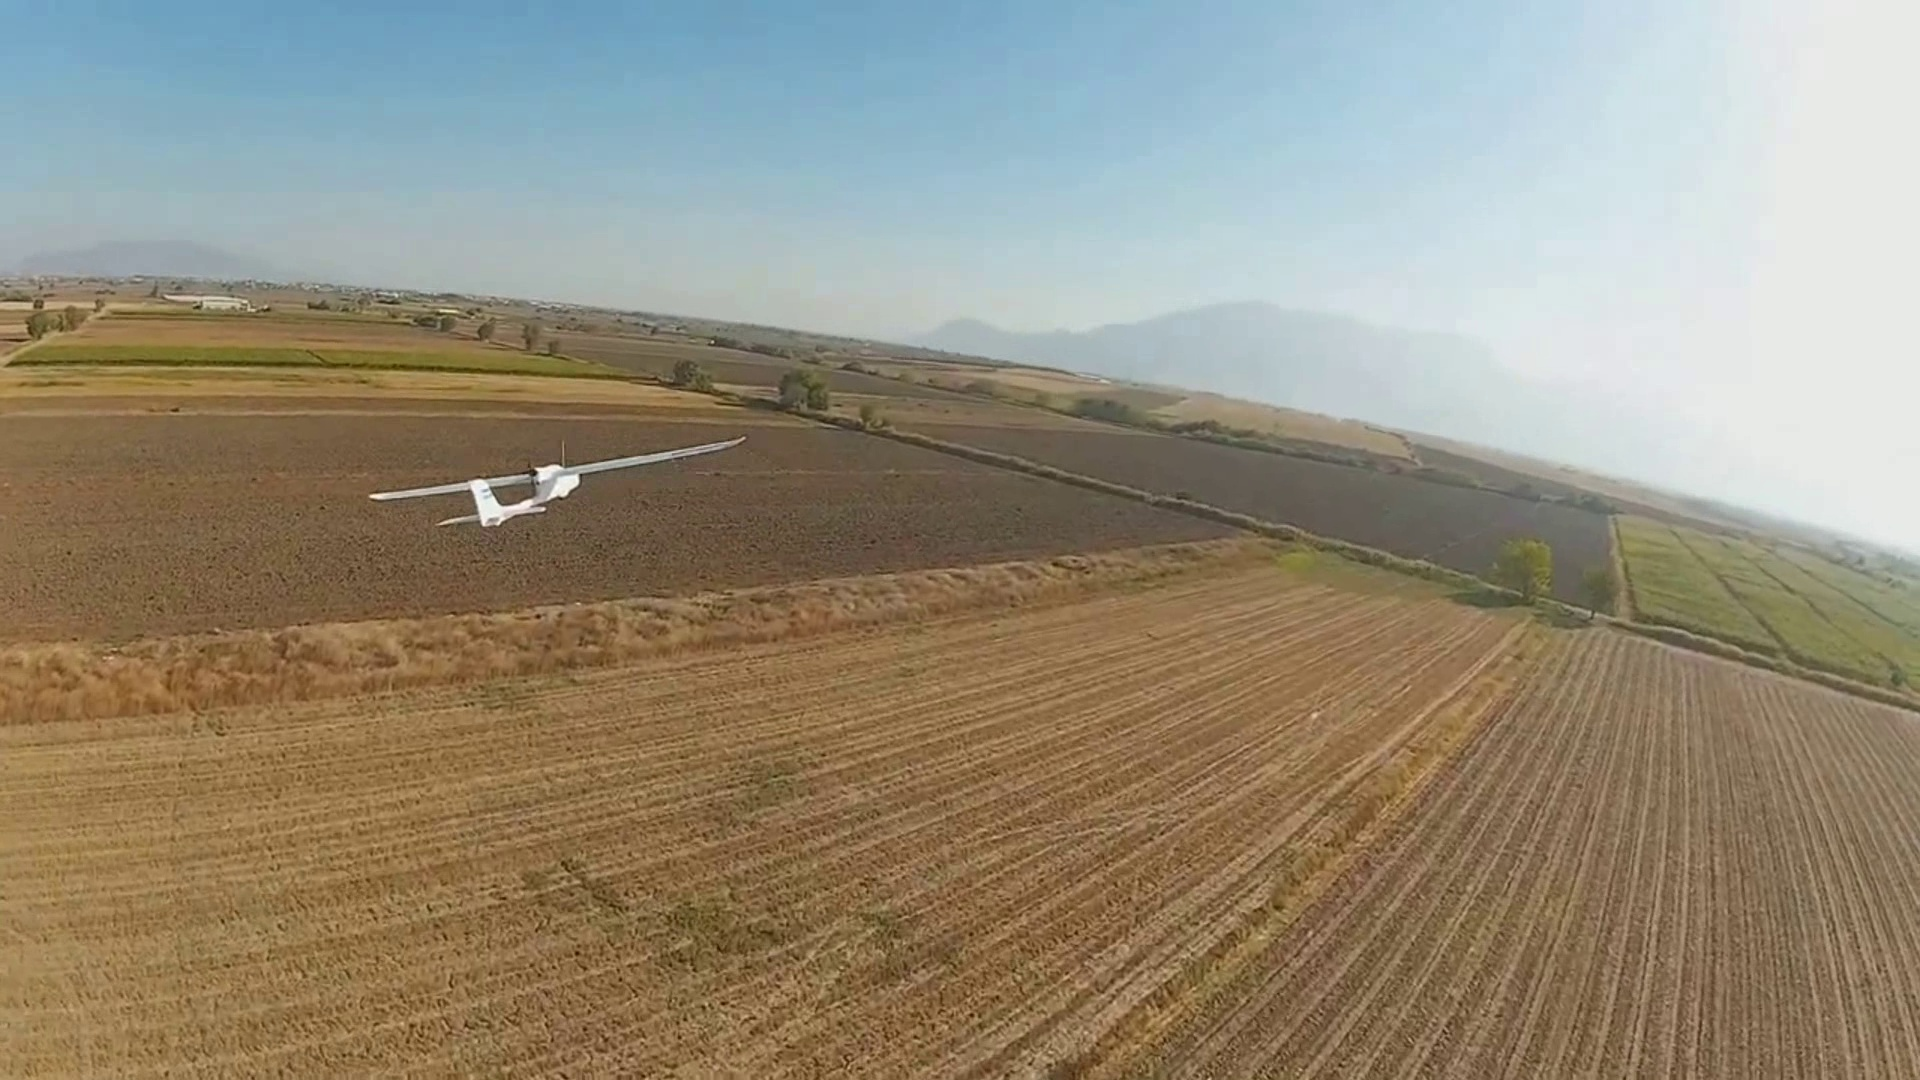airplane: (366, 434, 746, 528)
